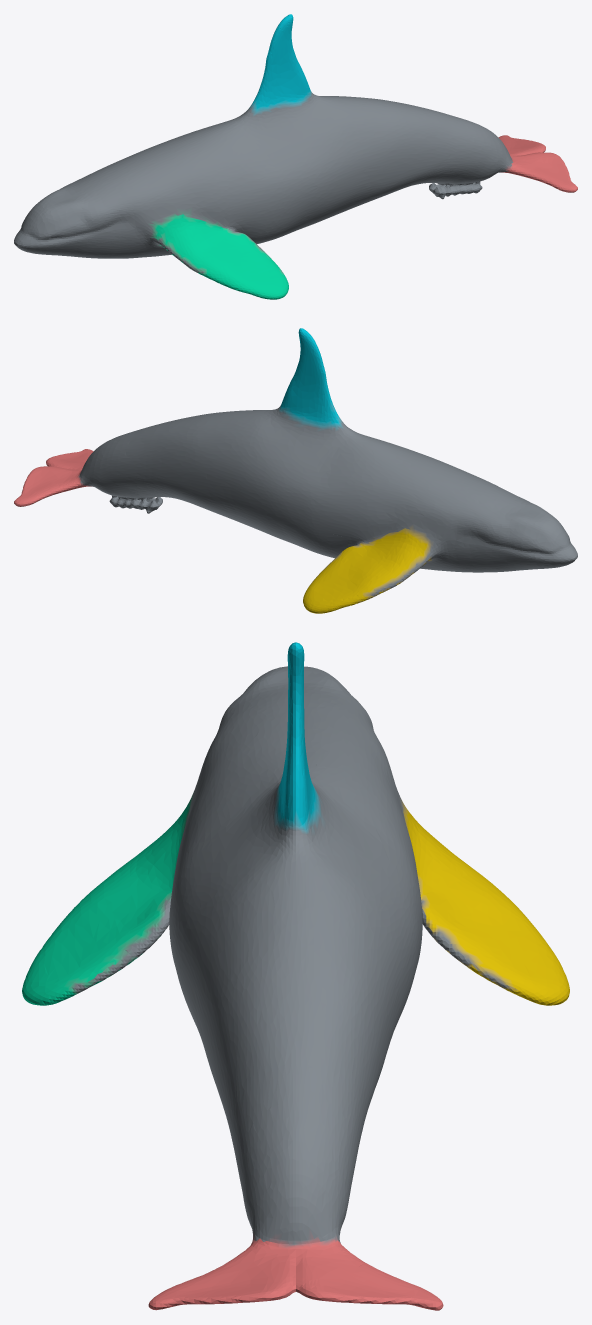
Rendered from killer_whale_segmented.glb.
3 renders of one model, top to bottom at view 1: azimuth 30°, elevation 25°; view 2: azimuth 150°, elevation 25°; view 3: azimuth 270°, elevation 25°, orthographic. The views are drawn at different scales.
Visible parts, largest first — view 1: world; view 2: world; view 3: world.
Part boxes in pixels (x1,y1,x2,y2): world: (14,14,577,299); world: (14,328,577,613); world: (22,642,569,1310).
Size of the model in its own units: 1.98 by 0.783 by 0.877.
